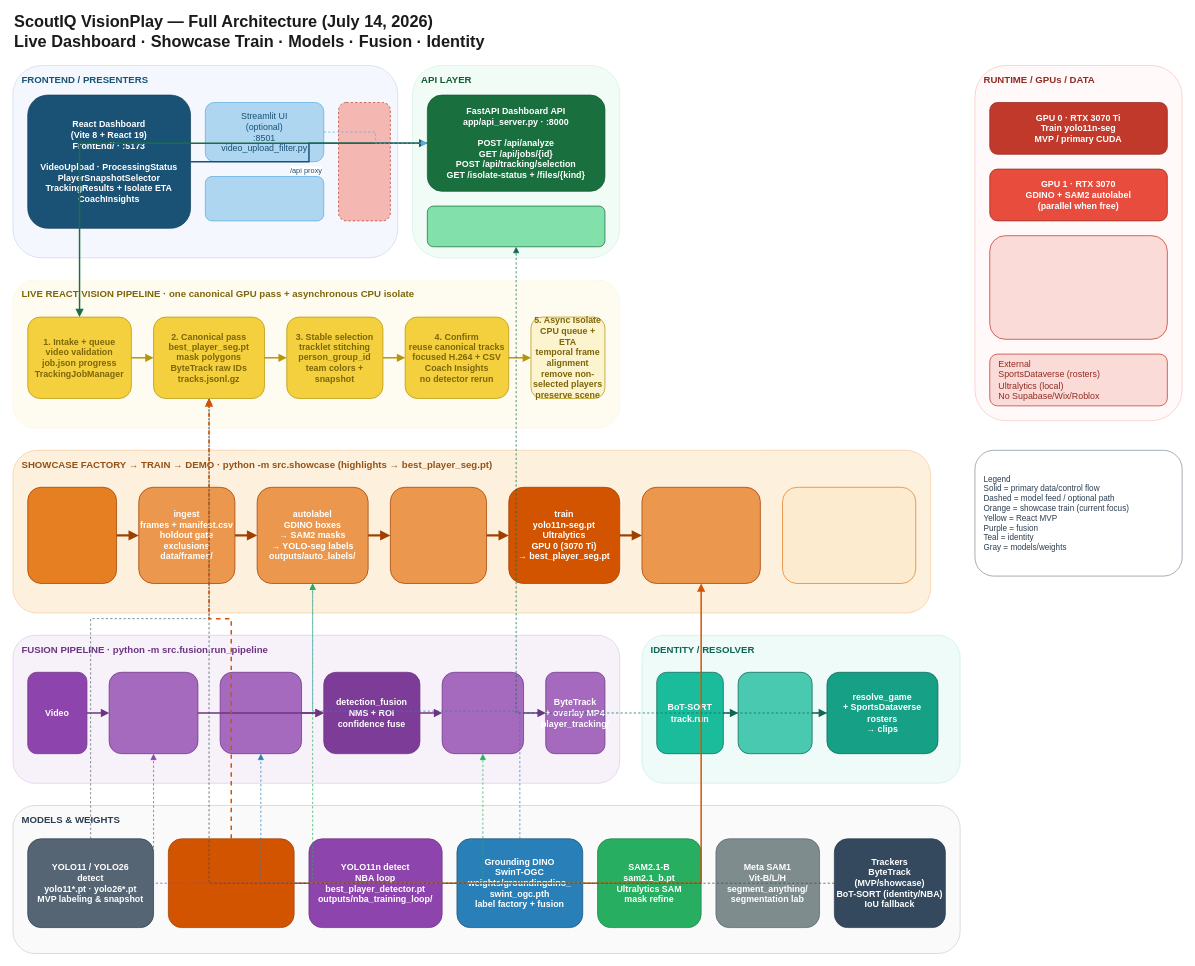
This 1195x966 diagram has some shape labels left out. The shapes that lost their labels are listed below. From the top down, each one's centre as x and y in pixels, then its label:
(x=364, y=161): Meta SAM ONNX demo demo/ (vendor only)
(x=264, y=198): Tkinter GUI video_intake_gui.py
(x=516, y=226): Identity API src/api/app.py search / clips
(x=1078, y=287): Data stores data/frames/ data/datasets/ data/exclusions/ outputs/* weights/
(x=72, y=535): Highlight MP4s Fever vs Sparks Fever vs Mercury
(x=438, y=535): build-dataset nba_player_seg train / val data.yaml nc=1 player
(x=700, y=535): run showcase NO GDINO YOLO-seg + ByteTrack outputs/showcase/ unseen_showcase.mp4
(x=849, y=535): Configs showcase_ingest.yaml showcase_train.yaml showcase_player_seg.yaml
(x=153, y=713): Trained YOLO best_player_ detector.pt
(x=260, y=713): Grounding DINO (prompts)
(x=482, y=713): SAM2 refine sam2_segmenter
(x=774, y=713): crops · OCR face · ReID embeds
(x=231, y=883): YOLO11n-seg fine-tuned best_player_seg.pt outputs/training_loop/
